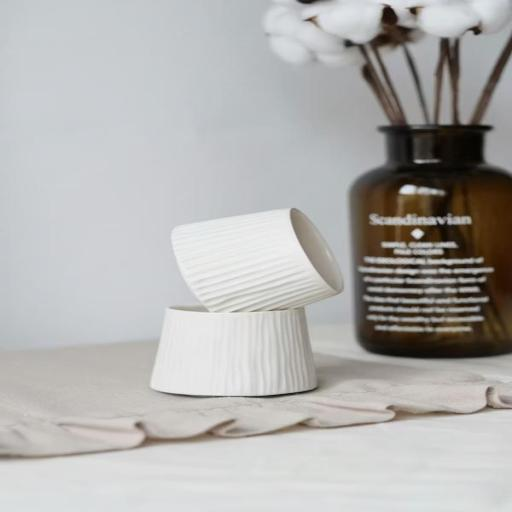bottle: (341, 113, 512, 382)
